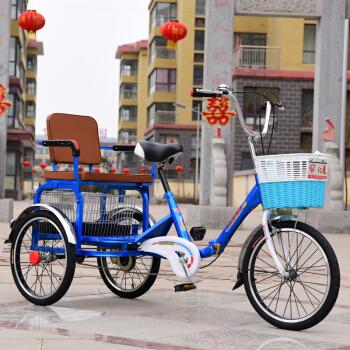empty: (10, 82, 342, 329)
